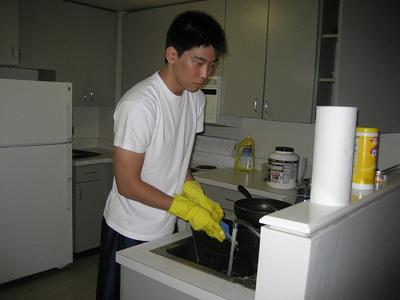person: (98, 11, 225, 298)
